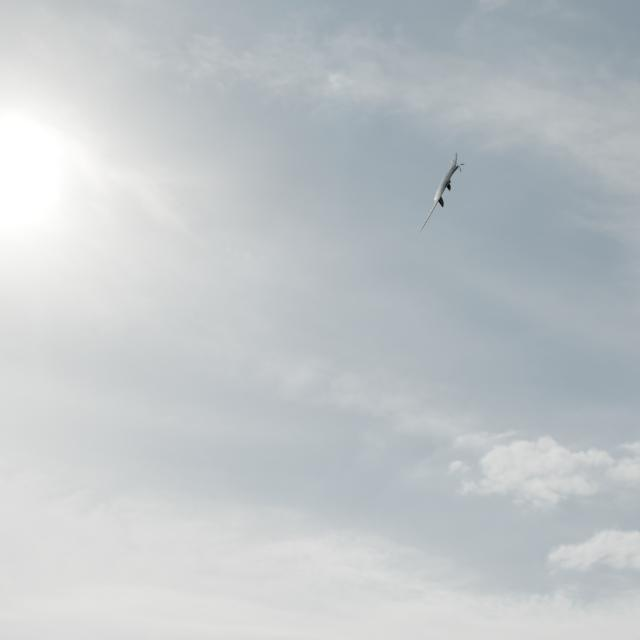Airaplan: (418, 153, 465, 234)
